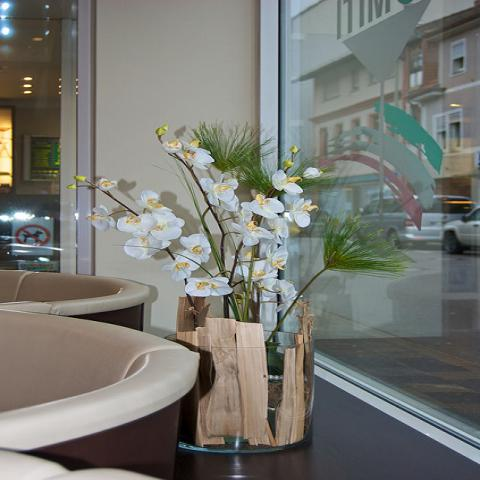car: (352, 195, 478, 250), (438, 207, 479, 257)
